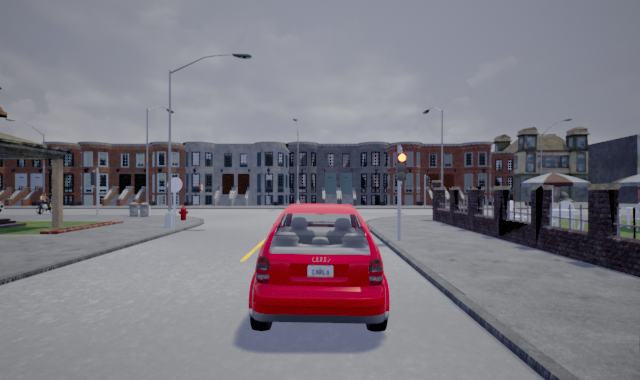bike: (29, 192, 62, 214)
vehicle: (246, 202, 390, 332)
